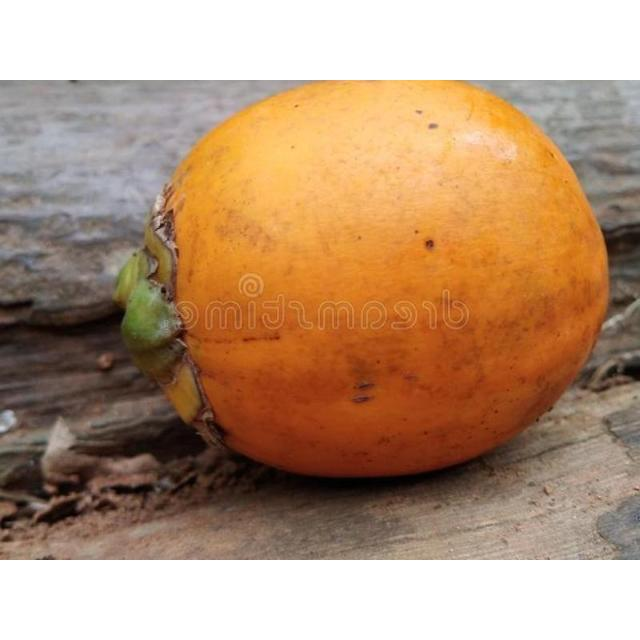good: (113, 80, 611, 482)
